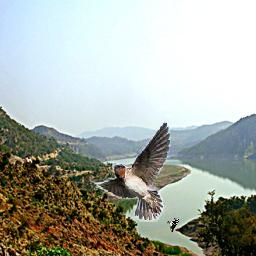Swallow: (91, 120, 172, 223)
Woodpecker: (167, 218, 179, 232)
